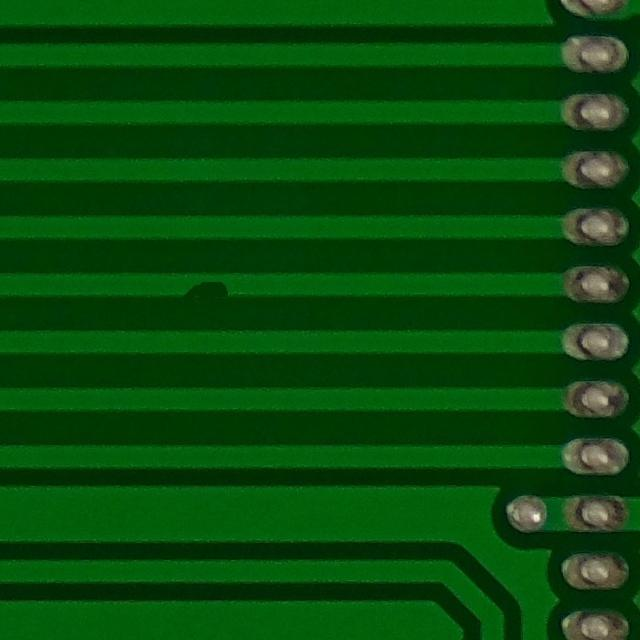mouse_bite: (170, 264, 248, 309)
